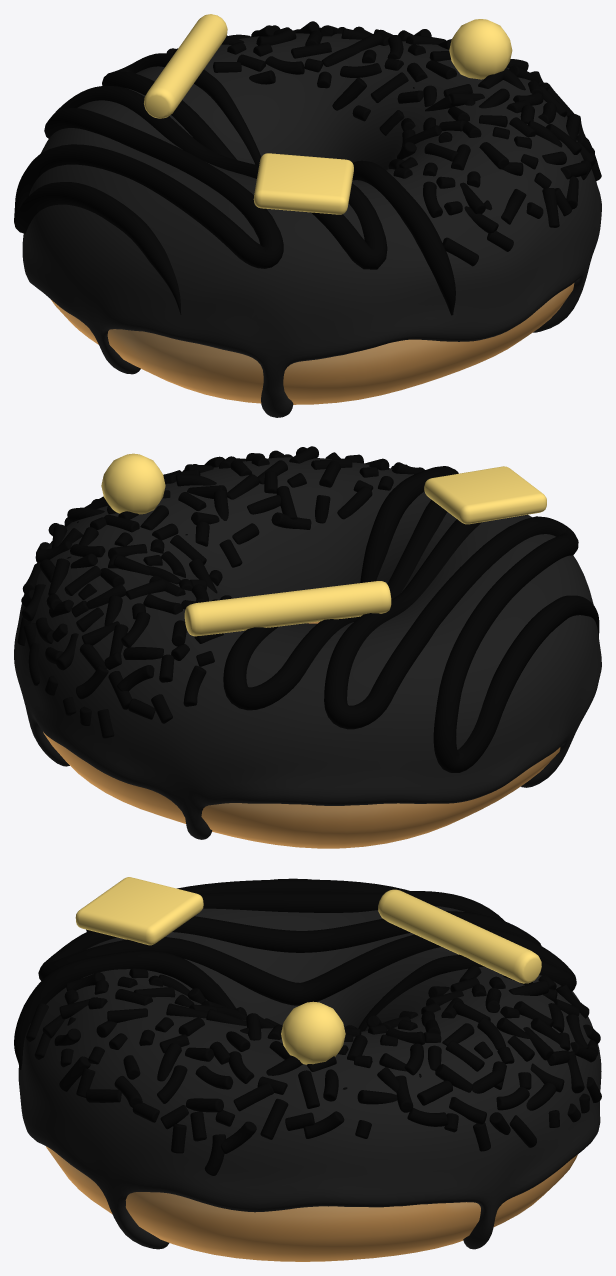
Rendered from CharcoalDonut.gltf.
The picture shows the model from 3 angles, top to bottom: view 1: azimuth 30°, elevation 25°; view 2: azimuth 150°, elevation 25°; view 3: azimuth 270°, elevation 25°; orthographic projection. The views are drawn at different scales.
Visible parts, largest first — view 1: Charcoal Frosting, Charcoal Icing, Charcoal Donut, Golden Square Disk, Golden Long Sprinkle, Golden Sphere Sprinkle; view 2: Charcoal Frosting, Charcoal Icing, Charcoal Donut, Golden Long Sprinkle, Golden Square Disk, Golden Sphere Sprinkle; view 3: Charcoal Frosting, Charcoal Icing, Charcoal Donut, Golden Long Sprinkle, Golden Square Disk, Golden Sphere Sprinkle.
Part boxes in pixels (x1=…): Charcoal Frosting: x1=22, y1=21, x2=601, y2=417; Charcoal Icing: x1=14, y1=53, x2=455, y2=315; Charcoal Donut: x1=50, y1=283, x2=574, y2=404; Golden Square Disk: x1=253, y1=153, x2=353, y2=214; Golden Long Sprinkle: x1=144, y1=14, x2=227, y2=118; Golden Sphere Sprinkle: x1=449, y1=19, x2=512, y2=79; Charcoal Frosting: x1=14, y1=446, x2=601, y2=839; Charcoal Icing: x1=223, y1=466, x2=599, y2=772; Charcoal Donut: x1=43, y1=621, x2=560, y2=848; Golden Long Sprinkle: x1=184, y1=581, x2=391, y2=636; Golden Square Disk: x1=424, y1=466, x2=546, y2=524; Golden Sphere Sprinkle: x1=101, y1=453, x2=165, y2=514; Charcoal Frosting: x1=18, y1=906, x2=601, y2=1249; Charcoal Icing: x1=14, y1=878, x2=576, y2=1069; Charcoal Donut: x1=46, y1=1146, x2=577, y2=1261; Golden Long Sprinkle: x1=378, y1=889, x2=541, y2=983; Golden Square Disk: x1=75, y1=877, x2=203, y2=945; Golden Sphere Sprinkle: x1=281, y1=1001, x2=345, y2=1064.
Bounding box in the file's own units: 0.652 × 0.3203 × 0.6421.
Materials: 6 (1 with a texture image).
